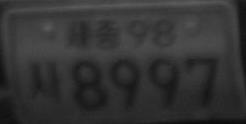7: (184, 56, 219, 108)
8: (70, 59, 106, 111), (152, 18, 177, 48)
9: (108, 57, 141, 112), (147, 57, 181, 109), (126, 18, 149, 48)
사: (28, 61, 63, 104)
세종_H: (67, 18, 118, 50)
